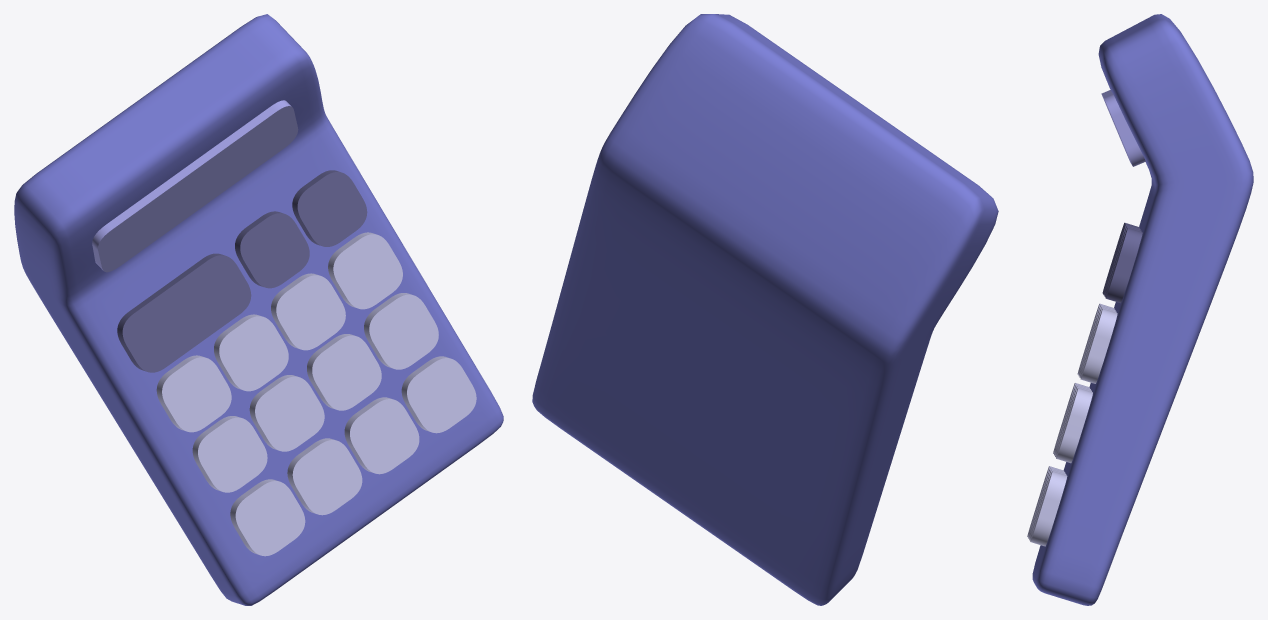
File: calc.glb
The picture shows the model from 3 angles, left to right: view 1: azimuth 30°, elevation 25°; view 2: azimuth 150°, elevation 25°; view 3: azimuth 270°, elevation 25°; orthographic projection. The views are drawn at different scales.
Parts seen in each view (by area): view 1: Cube, Calculator, Merged Geometry, Rectangle 2, Rectangle 4; view 2: Cube; view 3: Cube, Calculator, Merged Geometry, Rectangle 2.
Part boxes in pixels (<box>): Cube: <box>14,14,503,605</box>; Calculator: <box>156,232,476,556</box>; Merged Geometry: <box>117,170,367,372</box>; Rectangle 2: <box>92,100,298,272</box>; Rectangle 4: <box>193,416,267,492</box>; Cube: <box>532,14,998,605</box>; Cube: <box>1032,14,1253,605</box>; Calculator: <box>1027,303,1117,546</box>; Merged Geometry: <box>1102,222,1142,303</box>; Rectangle 2: <box>1101,90,1145,166</box>.
Size of the model in its own units: 1.42 by 1.69 by 0.5702.
